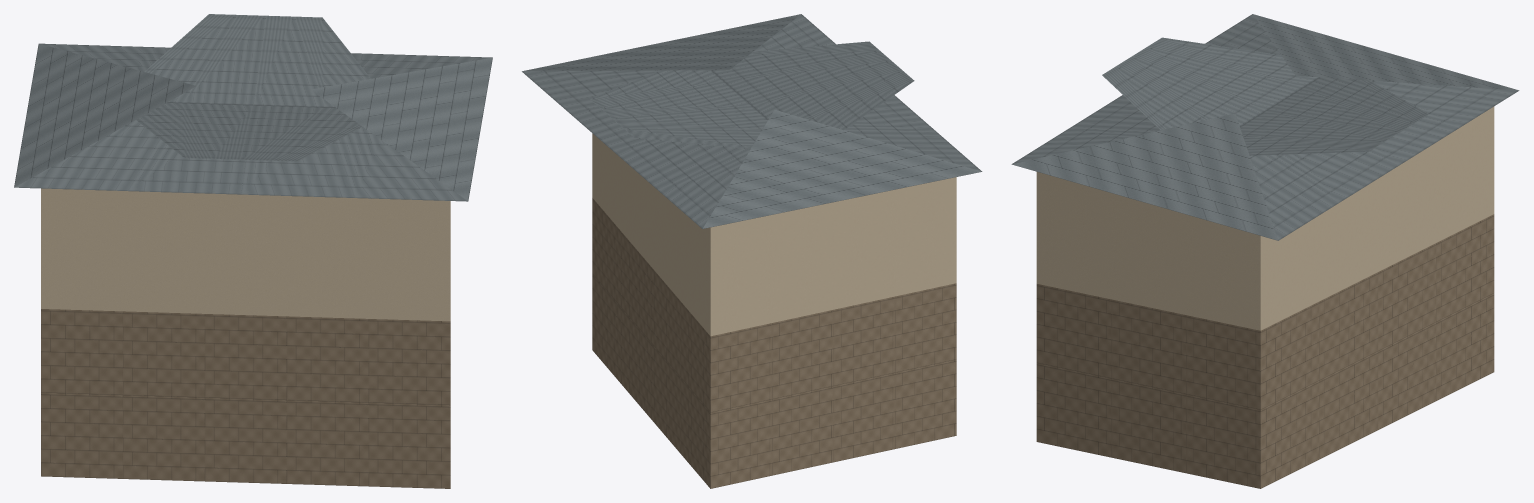
The model's file is bld_c-8_19_621.gltf.
The picture shows the model from 3 angles, left to right: view 1: azimuth 30°, elevation 25°; view 2: azimuth 150°, elevation 25°; view 3: azimuth 270°, elevation 25°; orthographic projection. The views are drawn at different scales.
Visible parts, largest first — view 1: bld_c-8_19_621; view 2: bld_c-8_19_621; view 3: bld_c-8_19_621.
Part boxes in pixels (left/top/right/bottom): bld_c-8_19_621: left=14, top=14, right=492, bottom=488; bld_c-8_19_621: left=522, top=14, right=982, bottom=488; bld_c-8_19_621: left=1011, top=14, right=1519, bottom=488.
Bounding box in the file's own units: 14.8 × 9.5 × 14.01.
Materials: 3 (3 with a texture image).
